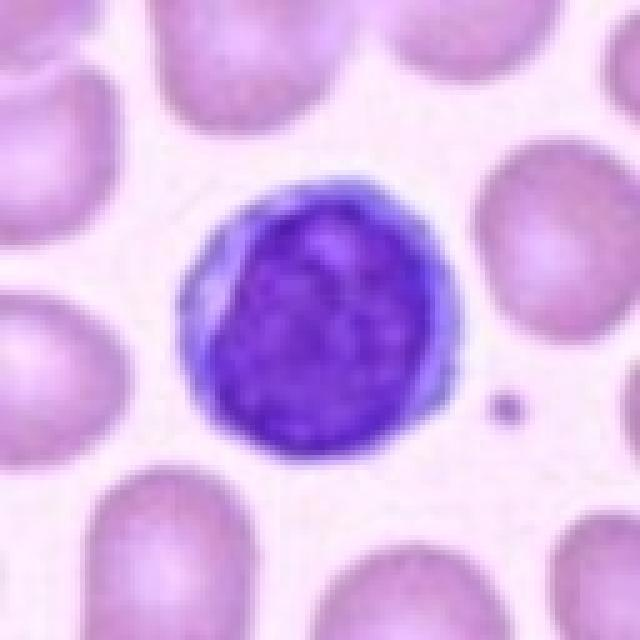lympho: (170, 168, 474, 468)
